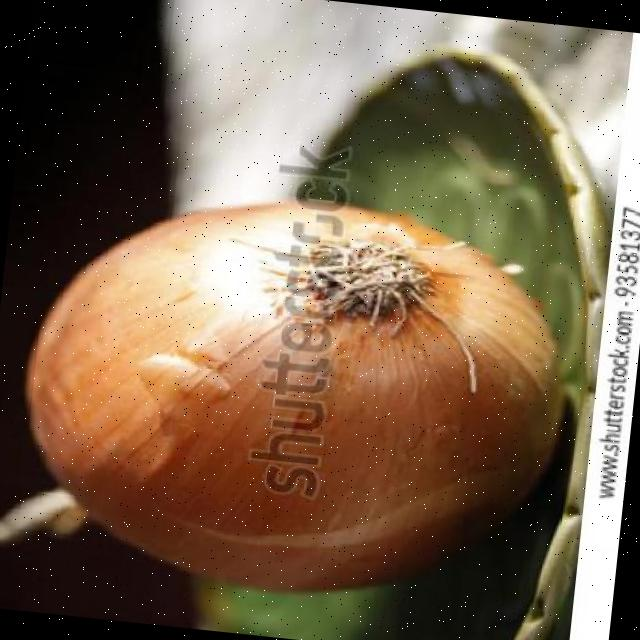Onion: (26, 201, 566, 590)
